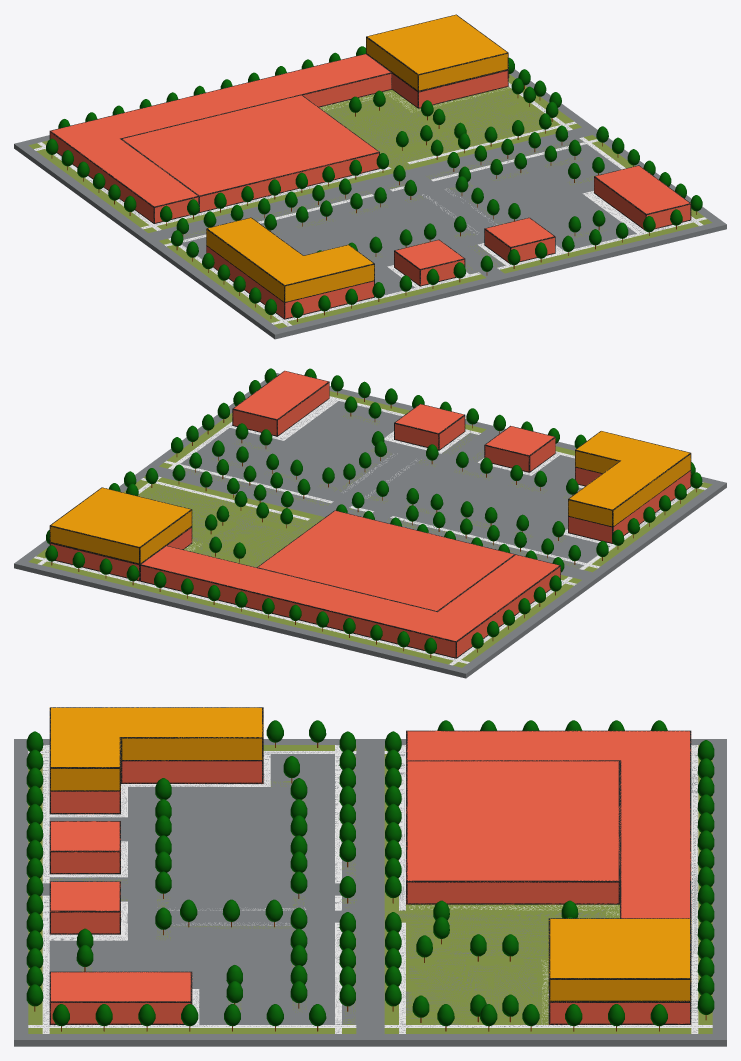
File: 450_commercial_A.dae
3 renders of one model, top to bottom at view 1: azimuth 30°, elevation 25°; view 2: azimuth 150°, elevation 25°; view 3: azimuth 270°, elevation 25°, orthographic. The views are drawn at different scales.
Parts seen in each view (by area): view 1: group_13 (×16), group_3 (×3), group_2 (×4), group_8 (×4), group_10 (×4), group_4 (×3), group_7 (×2), group_11, group_5, group_12; view 2: group_13 (×14), group_2 (×4), group_3 (×2), group_8 (×5), group_10 (×4), group_4 (×4), group_12 (×2), group_5 (×2), group_7 (×2), group_11; view 3: group_13 (×11), group_3 (×3), group_2 (×2), group_8 (×4), group_10 (×3), group_4 (×3), group_7 (×3), group_5 (×3), group_12 (×3), group_11 (×2).
Boxes of the visible parts, <box> form: group_13 (×16): <box>14,69,726,339</box>; group_3 (×3): <box>121,94,379,212</box>; group_2 (×4): <box>49,53,391,223</box>; group_8 (×4): <box>206,217,374,302</box>; group_10 (×4): <box>366,14,508,91</box>; group_4 (×3): <box>594,165,691,230</box>; group_7 (×2): <box>206,246,373,318</box>; group_11: <box>419,71,507,107</box>; group_5: <box>396,240,463,268</box>; group_12: <box>486,218,553,246</box>; group_13 (×14): <box>14,373,726,678</box>; group_2 (×4): <box>140,545,560,658</box>; group_3 (×2): <box>257,510,514,611</box>; group_8 (×5): <box>568,431,691,526</box>; group_10 (×4): <box>49,487,192,564</box>; group_4 (×4): <box>232,370,329,436</box>; group_12 (×2): <box>395,404,463,449</box>; group_5 (×2): <box>485,426,553,471</box>; group_7 (×2): <box>568,471,690,542</box>; group_11: <box>50,544,138,580</box>; group_13 (×11): <box>14,739,726,1046</box>; group_3 (×3): <box>406,760,619,904</box>; group_2 (×2): <box>406,730,691,918</box>; group_8 (×4): <box>49,707,263,790</box>; group_10 (×3): <box>548,918,691,1001</box>; group_4 (×3): <box>49,971,192,1024</box>; group_7 (×3): <box>49,760,263,814</box>; group_5 (×3): <box>49,821,120,874</box>; group_12 (×3): <box>49,881,120,934</box>; group_11 (×2): <box>548,1001,691,1024</box>.
Size of the model in its own units: 97.5 by 97.5 by 8.
